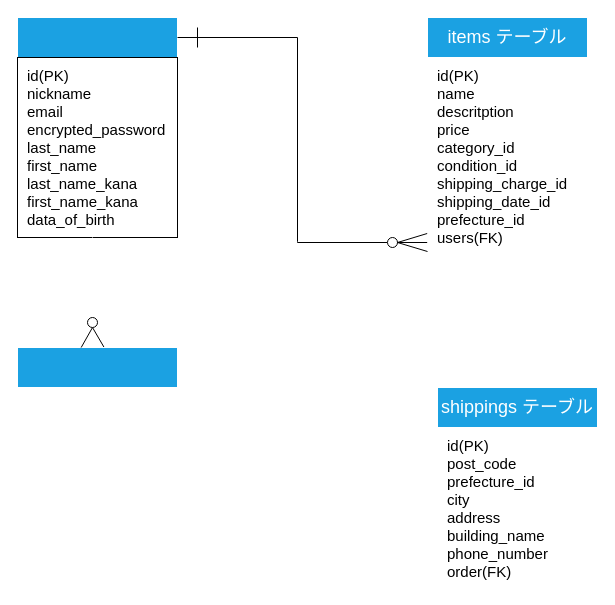
Image size: 615x605. Some labels were removed from this diagram. Here are the shapes that lost their labels. From the top down, the centre of each, then its label:
At pixel 97 37: "users テーブル".
At pixel 97 367: "orders テーブル".
At pixel 97 422: "id(PK) user(FK) item(FK)".
